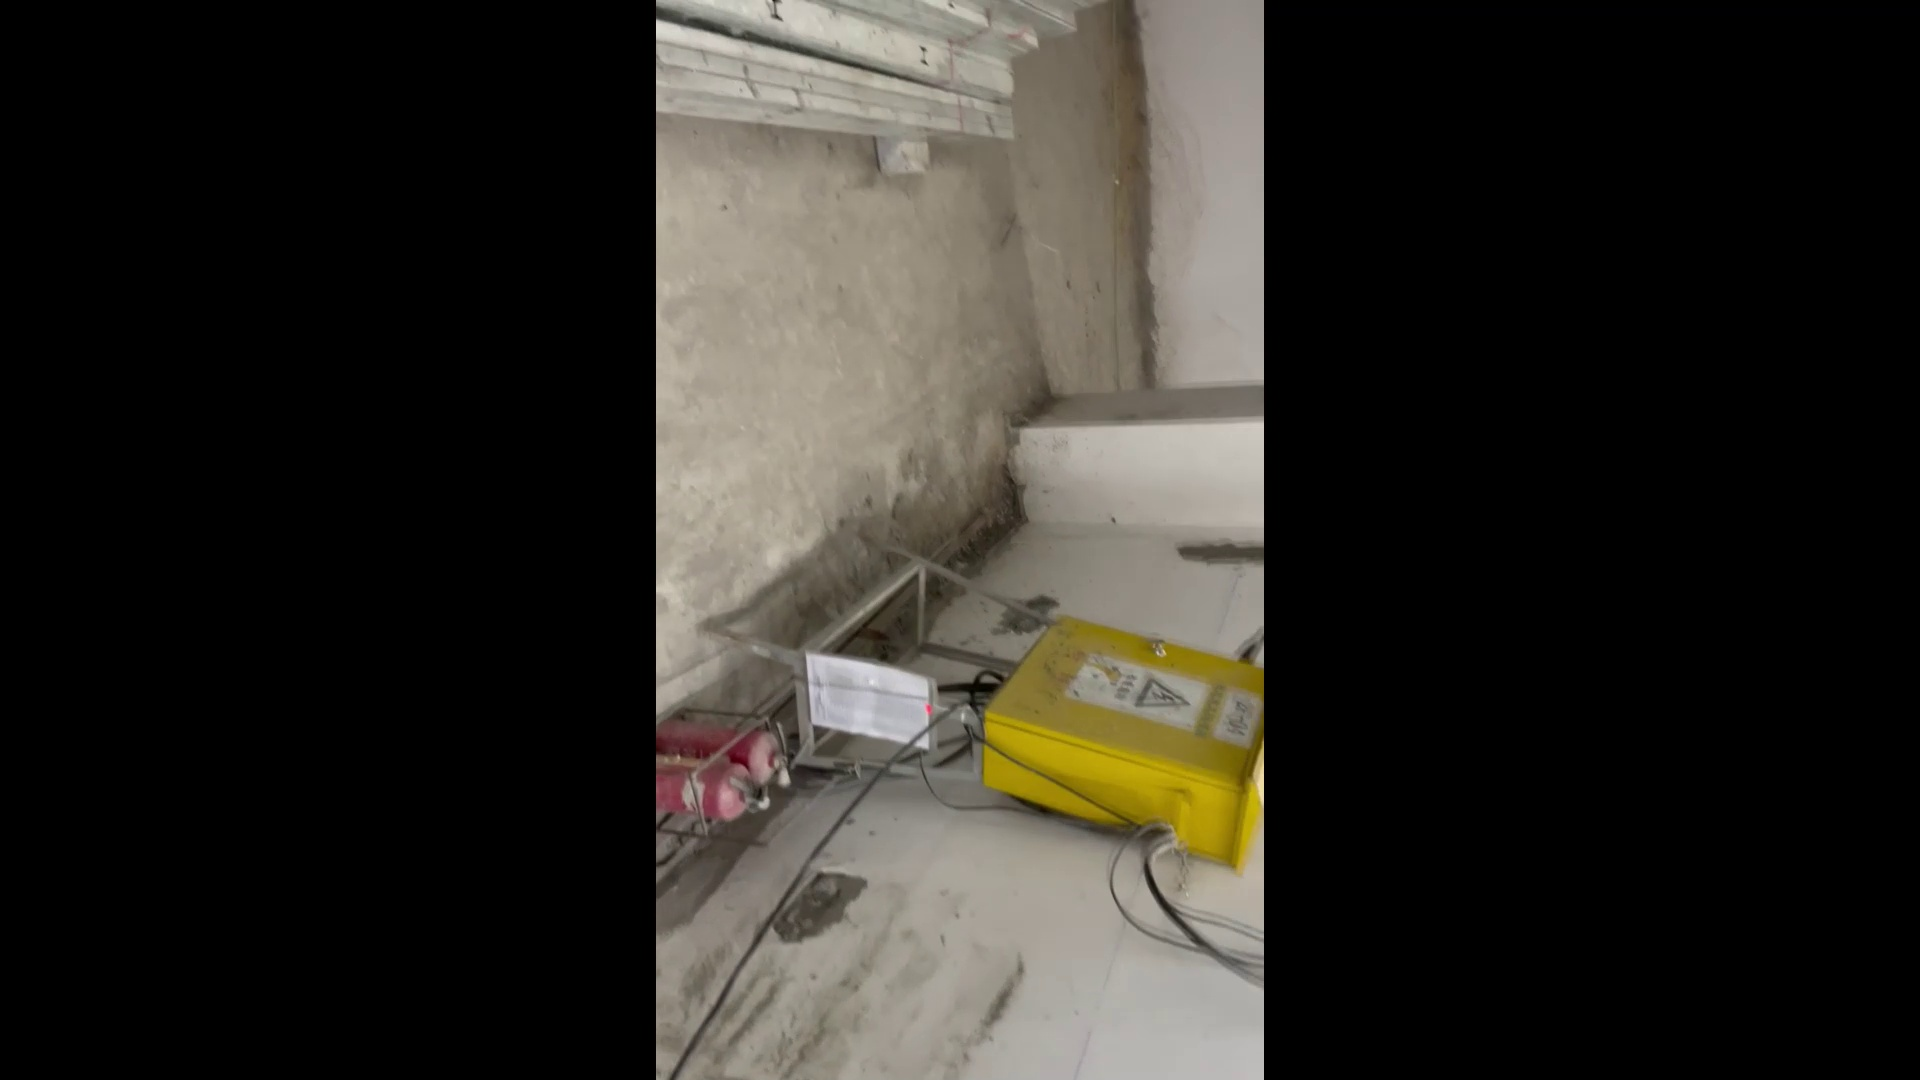ebox: (700, 505, 1257, 882)
